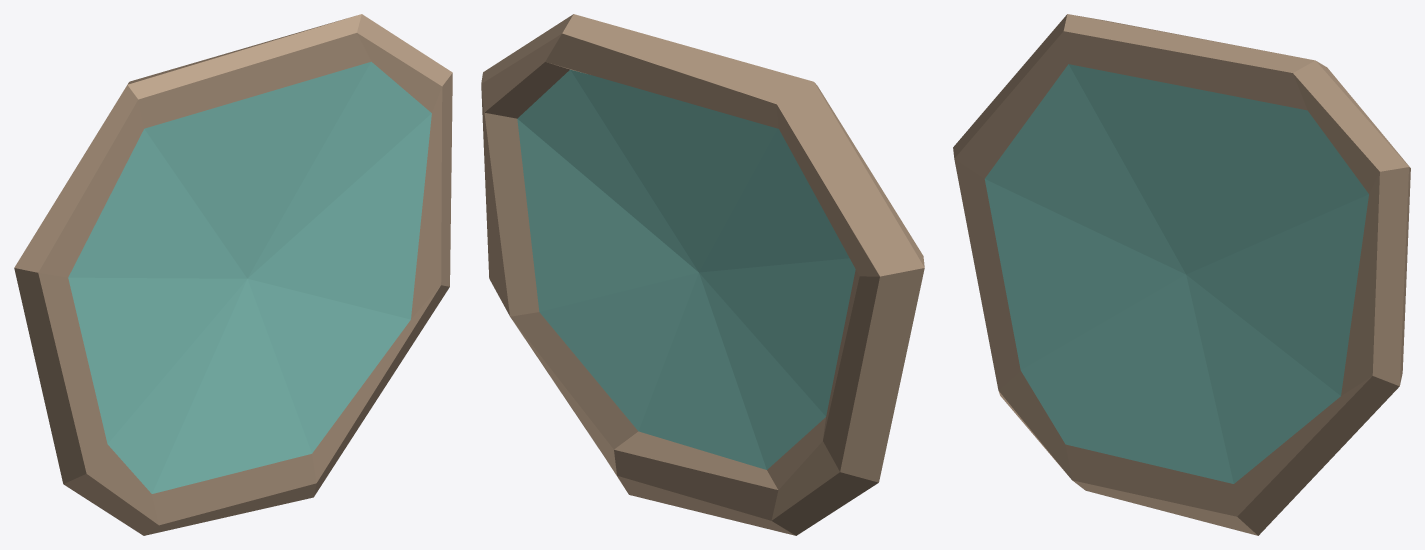
The model's file is auraAcenter.fbx.
3 views of the same model, side by side, from view 1: azimuth 30°, elevation 25°; view 2: azimuth 150°, elevation 25°; view 3: azimuth 330°, elevation 25° (orthographic). The views are drawn at different scales.
Parts seen in each view (by area): view 1: Cube; view 2: Cube; view 3: Cube.
Part boxes in pixels (x1=…): Cube: x1=14, y1=14, x2=452, y2=535; Cube: x1=481, y1=14, x2=924, y2=535; Cube: x1=953, y1=14, x2=1410, y2=535.
Bounding box in the file's own units: 1820 × 1856 × 223.
